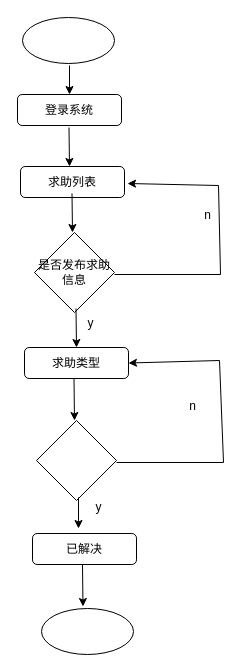
This 249x672 diagram has some shape labels left out. The centre of each missing label's shape, as x and y in pixels:
"开始" goes at point (68, 40).
"志愿者是否前往" goes at point (76, 460).
"结束" goes at point (87, 631).
